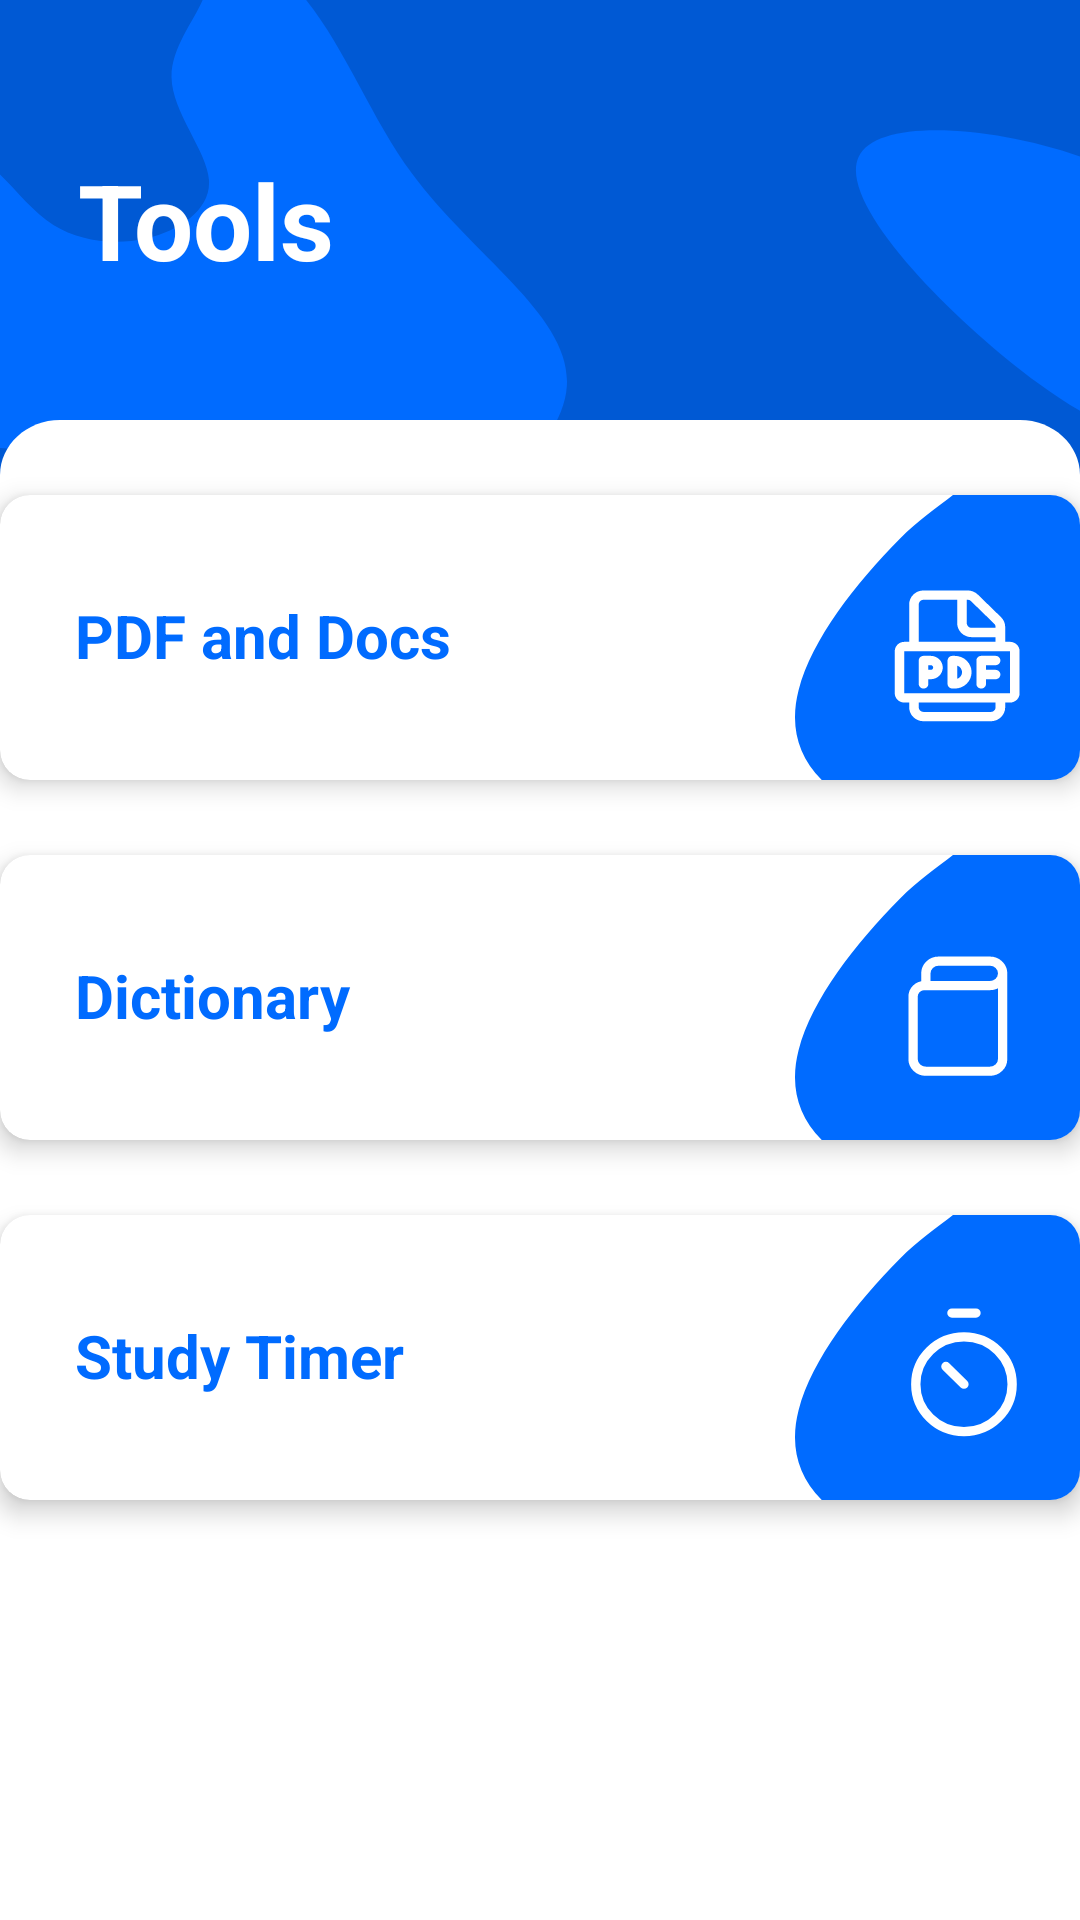

Locate icon controls on the screen. Image size 1080*1920, boxes as bbox=[x1, y1, x2, y2].
dictionary: bbox=[795, 855, 1080, 1140]
pdf cardicon: bbox=[795, 495, 1080, 780]
